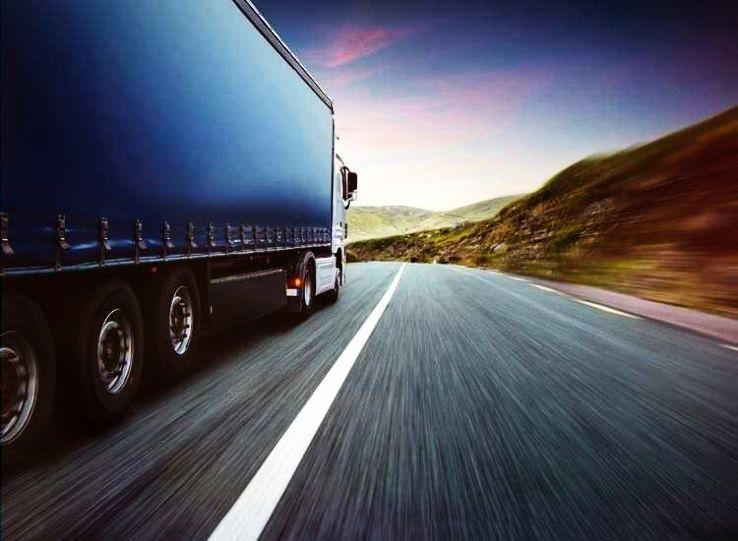car: (0, 0, 355, 357)
shadow: (534, 119, 738, 473), (366, 332, 651, 541)
